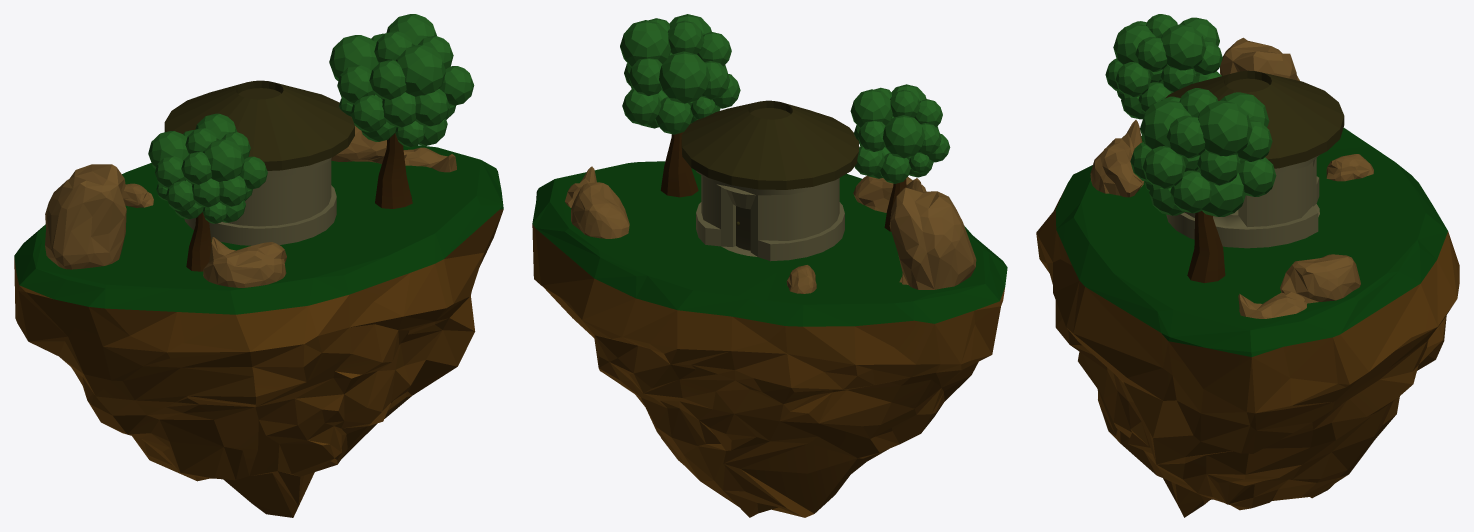
Rendered from Tuturial Island.fbx.
3 views of the same model, side by side, from view 1: azimuth 30°, elevation 25°; view 2: azimuth 150°, elevation 25°; view 3: azimuth 270°, elevation 25° (orthographic). The views are drawn at different scales.
Parts seen in each view (by area): view 1: polySurface1, Tutorial_House, pPlatonic27, pPlatonic27_1, pPlatonic2, pPlatonic1, pPlatonic4, pPlatonic5, pPlatonic3; view 2: polySurface1, Tutorial_House, pPlatonic27, pPlatonic27_1, pPlatonic2, pPlatonic4, pPlatonic1, pPlatonic3; view 3: polySurface1, pPlatonic27, Tutorial_House, pPlatonic27_1, pPlatonic4, pPlatonic1, pPlatonic2, pPlatonic5, pPlatonic3.
Part boxes in pixels (x1,y1,x2,y2): polySurface1: (14, 145, 503, 517); Tutorial_House: (164, 80, 354, 245); pPlatonic27: (329, 14, 474, 208); pPlatonic27_1: (148, 113, 267, 271); pPlatonic2: (45, 164, 126, 269); pPlatonic1: (203, 237, 286, 287); pPlatonic4: (331, 126, 406, 163); pPlatonic5: (403, 147, 456, 172); pPlatonic3: (122, 183, 153, 207); polySurface1: (532, 161, 1007, 517); Tutorial_House: (681, 100, 859, 261); pPlatonic27: (620, 14, 740, 197); pPlatonic27_1: (850, 84, 950, 231); pPlatonic2: (889, 187, 976, 289); pPlatonic4: (571, 182, 629, 238); pPlatonic1: (853, 175, 926, 212); pPlatonic3: (786, 265, 816, 293); polySurface1: (1036, 128, 1459, 517); pPlatonic27: (1130, 88, 1276, 283); Tutorial_House: (1165, 70, 1344, 248); pPlatonic27_1: (1105, 14, 1222, 119); pPlatonic4: (1280, 254, 1360, 303); pPlatonic1: (1090, 120, 1143, 197); pPlatonic2: (1220, 37, 1299, 80); pPlatonic5: (1238, 292, 1306, 318); pPlatonic3: (1326, 154, 1373, 181).
Bounding box in the file's own units: 45.56 × 41.3 × 32.61.
